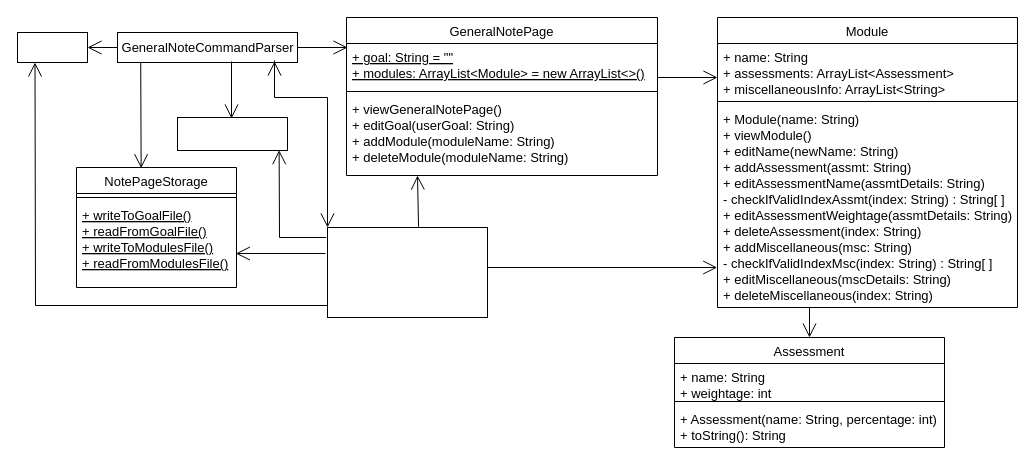
Some shapes in this 1035 by 468 pixel diagram are drawn without their labels. The shapes that lost their labels are listed below. From the top down, each one's centre as x and y in pixels, then its label:
the point at 52,47: Ui
the point at 232,133: HelpCommand
the point at 407,272: ModuleCommandParser
